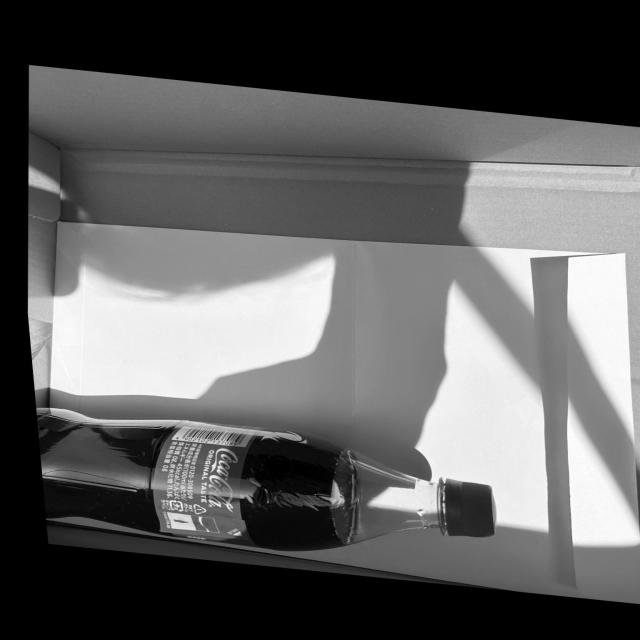high: (38, 408, 495, 551)
